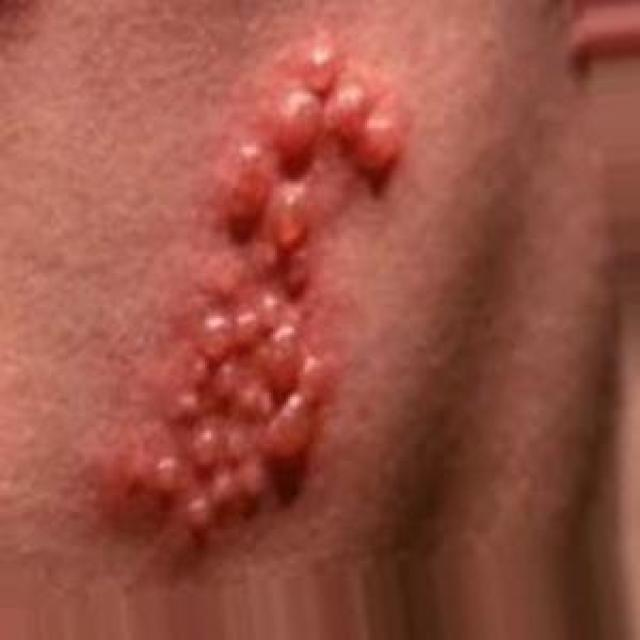Shingles: (155, 51, 399, 535)
